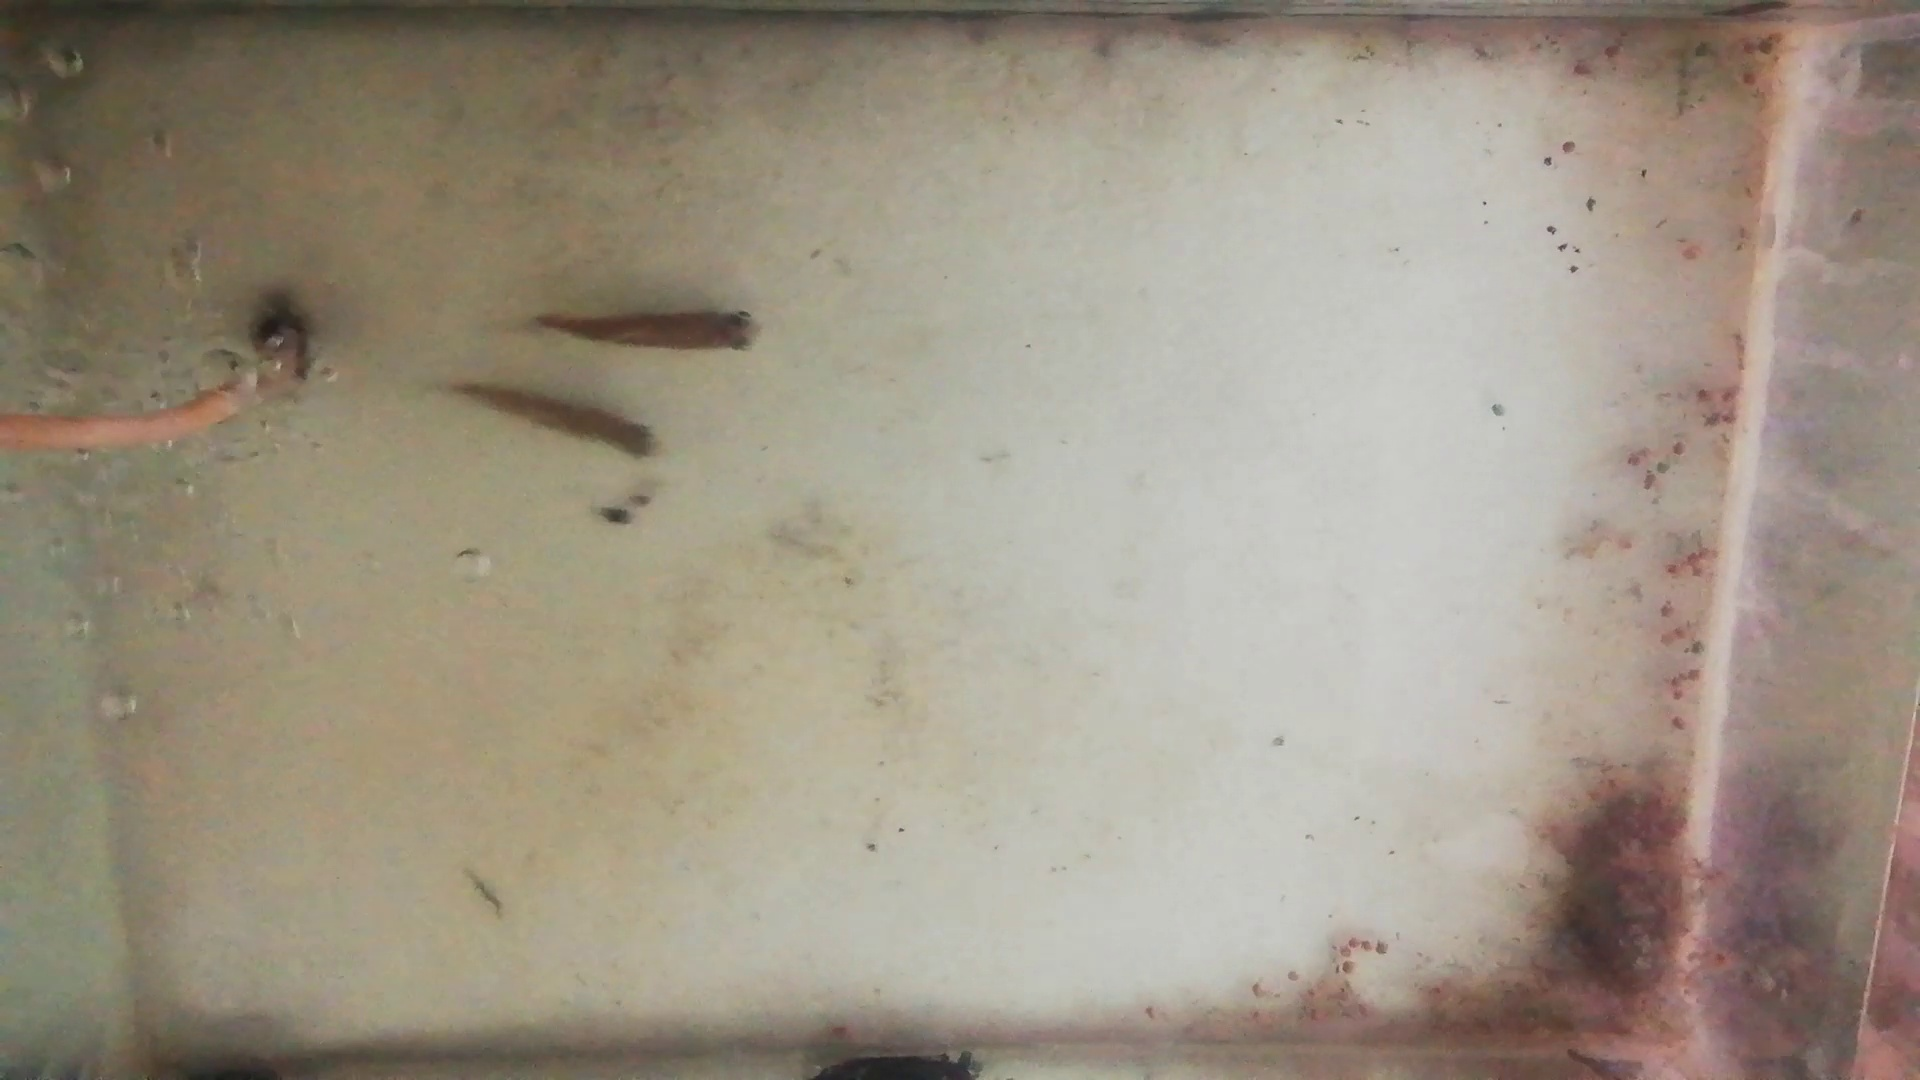fish: (452, 382, 661, 459), (535, 309, 764, 357)
